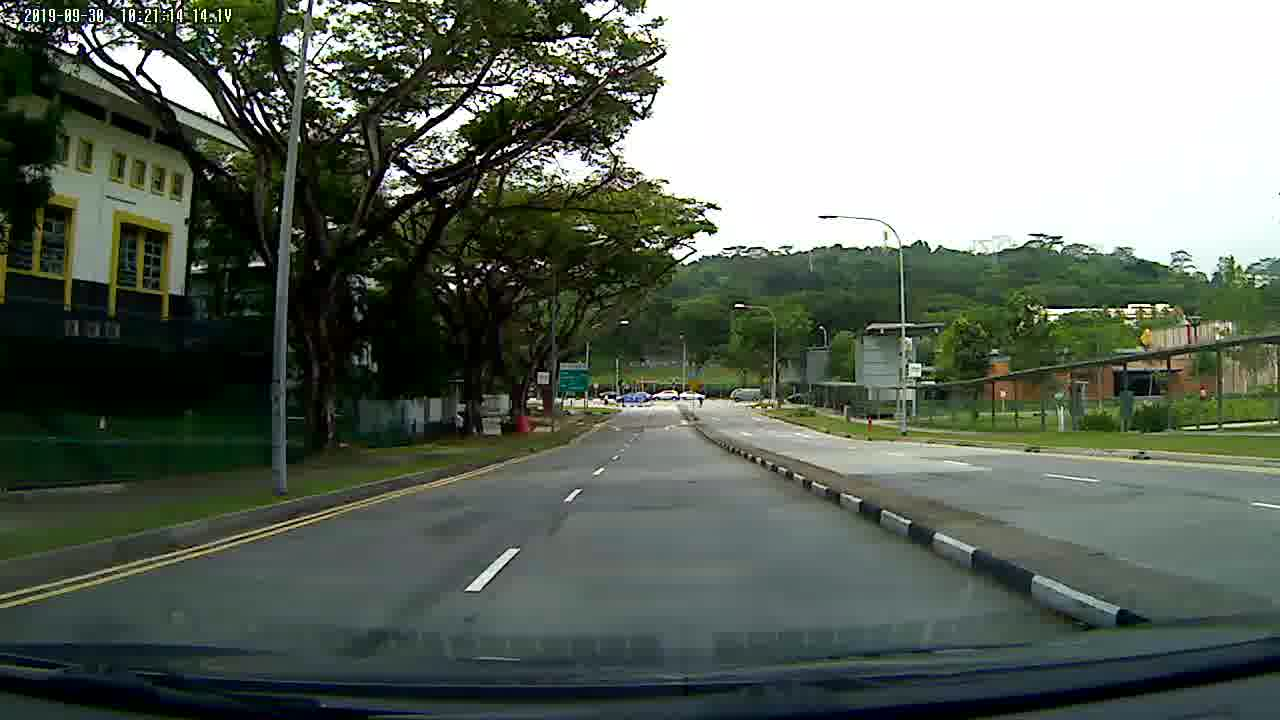car: (651, 386, 678, 404), (678, 388, 705, 403)
